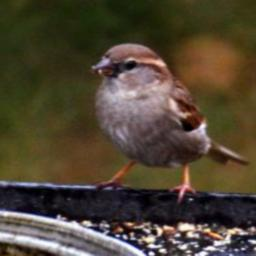Sparrow: (87, 41, 250, 206)
